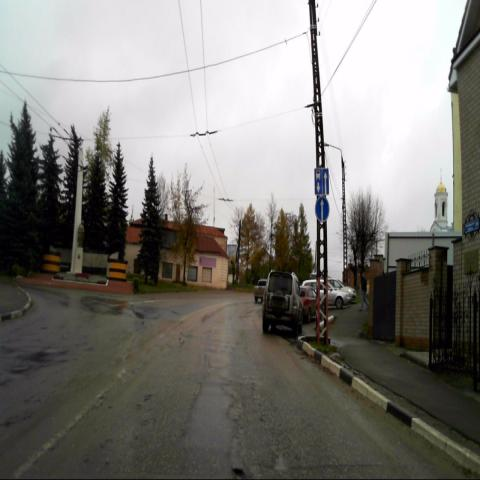5_11: (314, 168, 329, 195)
